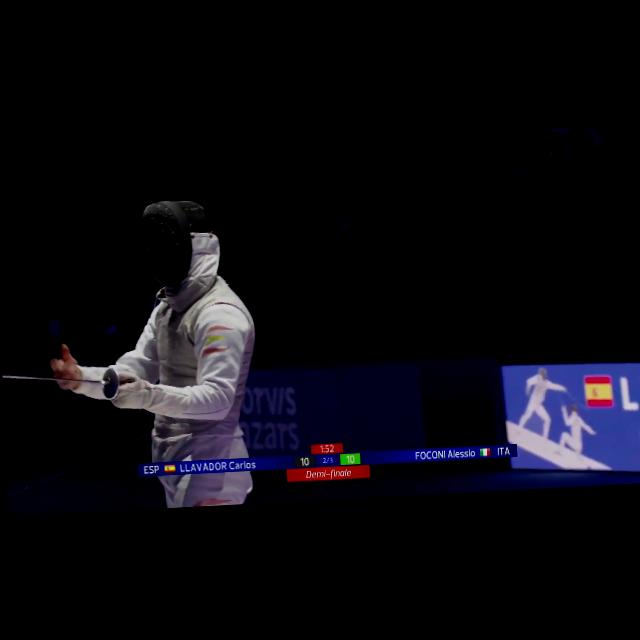blade: (2, 360, 125, 420)
